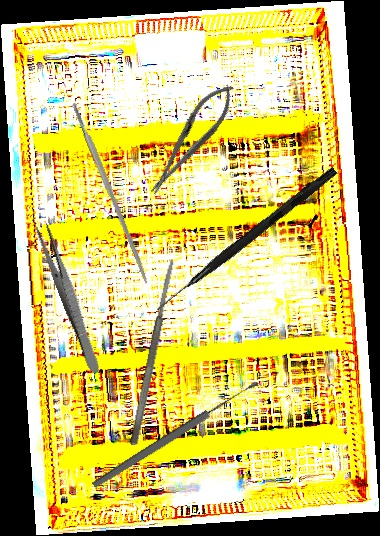Dressing Forceps: (33, 221, 105, 375)
Hook Surgical: (154, 164, 338, 316)
Needle Holder: (139, 76, 243, 202)
Scalpel Handle: (69, 99, 152, 285)
Spatula Surgical: (128, 258, 178, 446)
Surgical Spoon: (90, 378, 261, 491)
